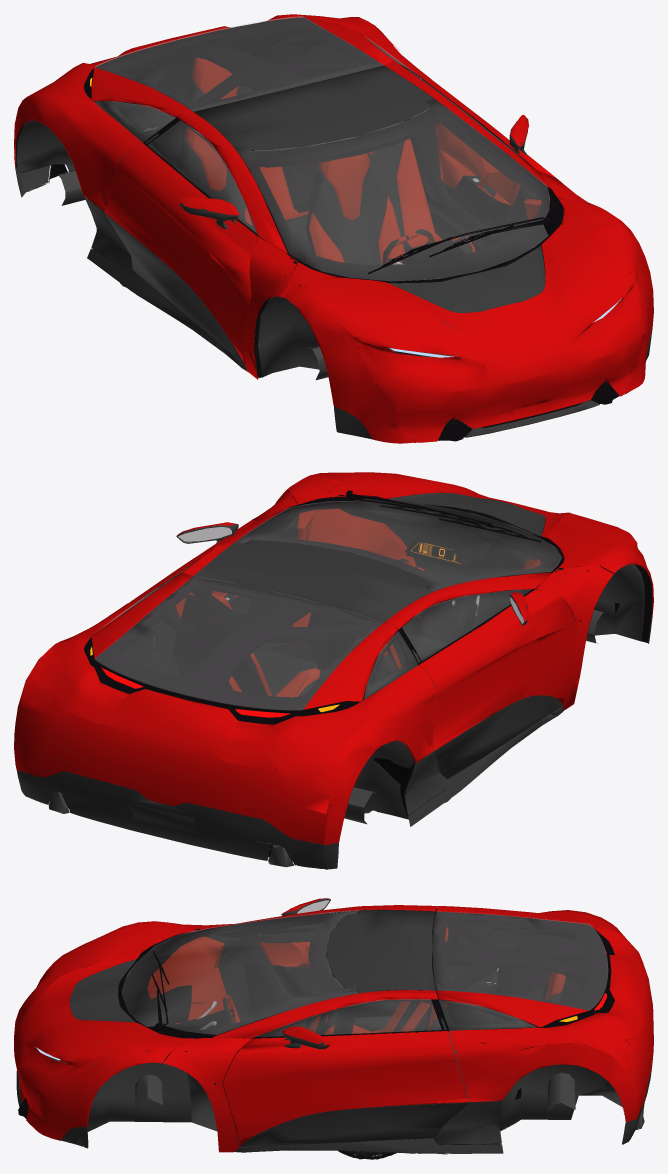
The model's file is car.glb.
3 views of the same model, one above another, from view 1: azimuth 30°, elevation 25°; view 2: azimuth 150°, elevation 25°; view 3: azimuth 270°, elevation 25° (orthographic). The views are drawn at different scales.
Parts seen in each view (by area): view 1: Car, Hatch; view 2: Car, Hatch; view 3: Car, Hatch.
Part boxes in pixels (box(x1,y1,x2,y2)): Car: box(14, 14, 653, 443); Hatch: box(93, 16, 383, 118); Car: box(14, 472, 653, 869); Hatch: box(95, 576, 396, 715); Car: box(14, 898, 653, 1159); Hatch: box(432, 911, 607, 1027).
Size of the model in its own units: 2.34 by 1.53 by 4.36.
22 materials, 5 textured.
